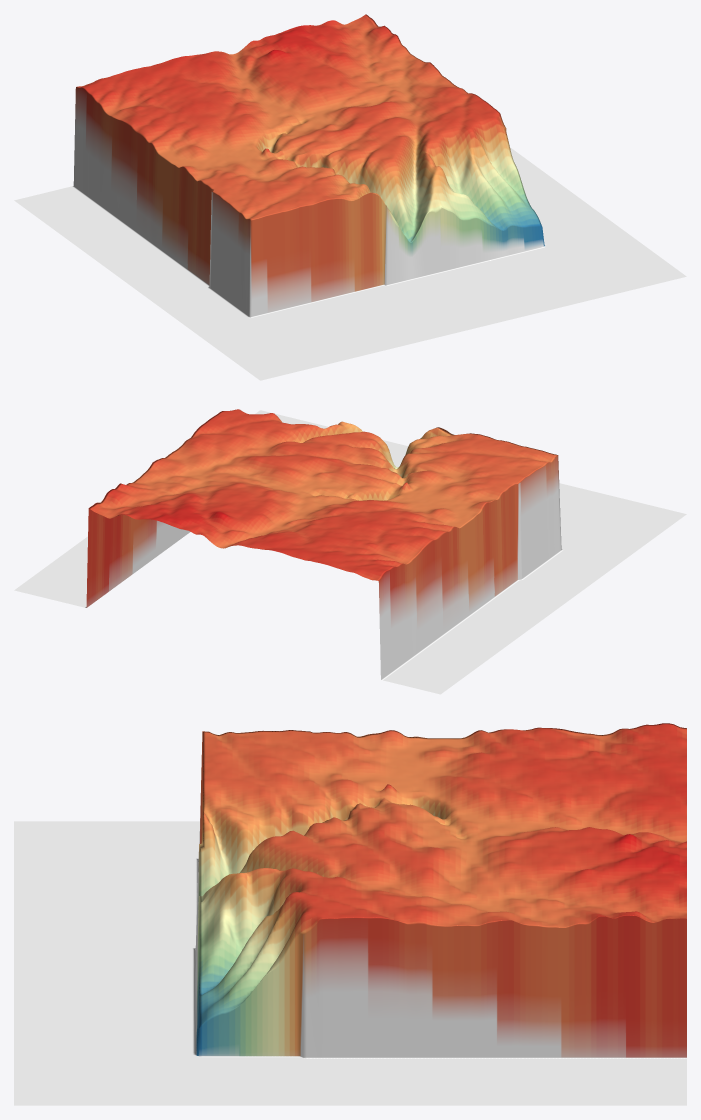
Rendered from Itaimbezinho2.gltf.
3 renders of one model, top to bottom at view 1: azimuth 30°, elevation 25°; view 2: azimuth 150°, elevation 25°; view 3: azimuth 270°, elevation 25°, orthographic. The views are drawn at different scales.
Parts seen in each view (by area): view 1: DEM_Itaimbezinho; view 2: DEM_Itaimbezinho; view 3: DEM_Itaimbezinho.
Part boxes in pixels (left/top/right/bottom): DEM_Itaimbezinho: left=14, top=14, right=686, bottom=380; DEM_Itaimbezinho: left=14, top=409, right=686, bottom=694; DEM_Itaimbezinho: left=14, top=723, right=686, bottom=1105.
Bounding box in the file's own units: 11354 × 2716 × 11354.
Materials: 1 (1 with a texture image).
